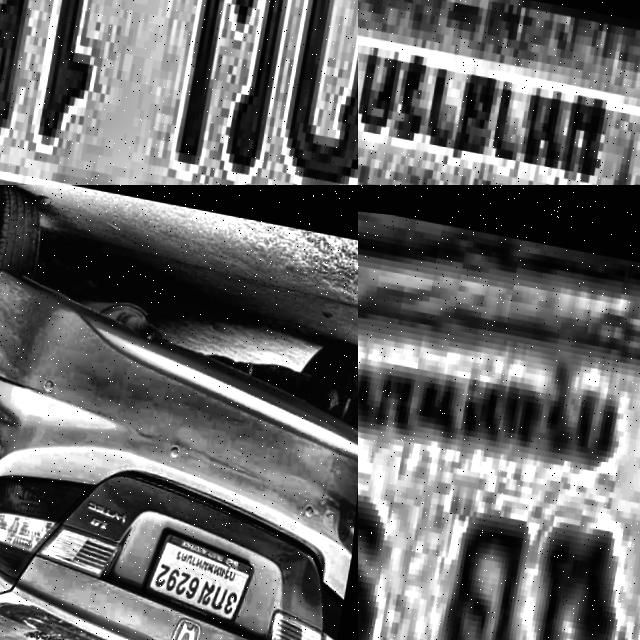license-plate: (358, 185, 640, 640), (0, 0, 358, 185), (358, 0, 640, 185), (137, 507, 267, 627)
